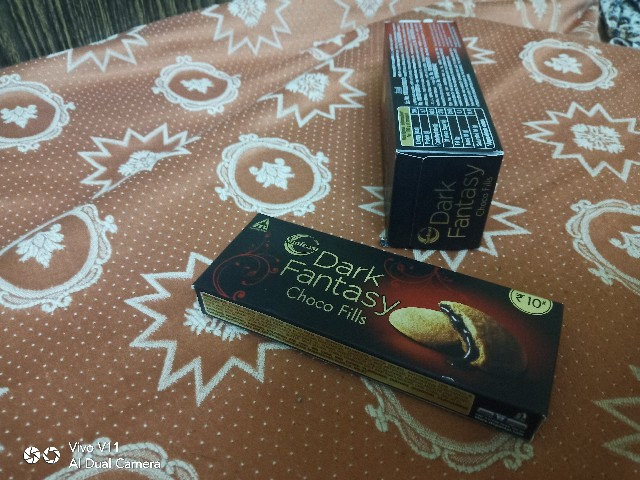darkfantasy big: (376, 6, 504, 246)
darkfantasy small: (172, 213, 571, 443)
